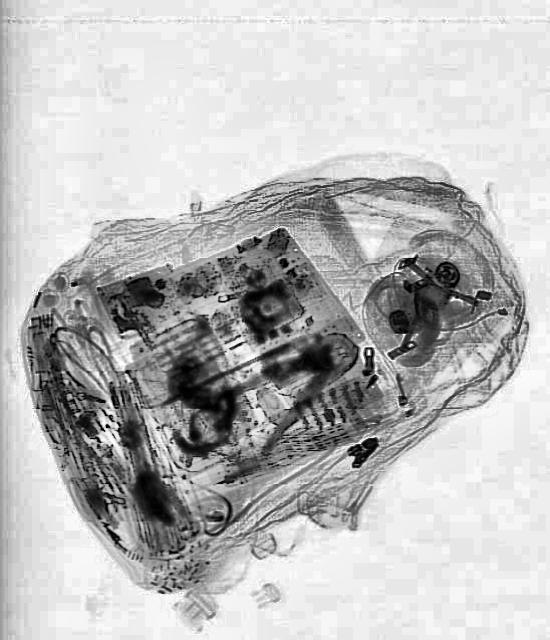Pliers: (205, 312, 377, 464)
